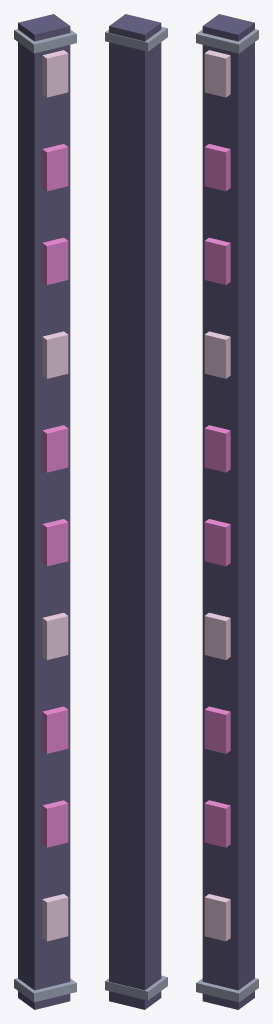
File: columna_led_rosa.glb
3 renders of one model, left to right at view 1: azimuth 30°, elevation 25°; view 2: azimuth 150°, elevation 25°; view 3: azimuth 330°, elevation 25°, orthographic.
Parts seen in each view (by area): view 1: columna_led_rosa; view 2: columna_led_rosa; view 3: columna_led_rosa.
Part boxes in pixels (bbox=[...]): columna_led_rosa: bbox=[14, 14, 76, 1009]; columna_led_rosa: bbox=[105, 14, 167, 1009]; columna_led_rosa: bbox=[196, 14, 258, 1009].
Bounding box in the file's own units: 0.6 × 13 × 0.535.
